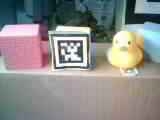duck: (100, 29, 148, 70)
